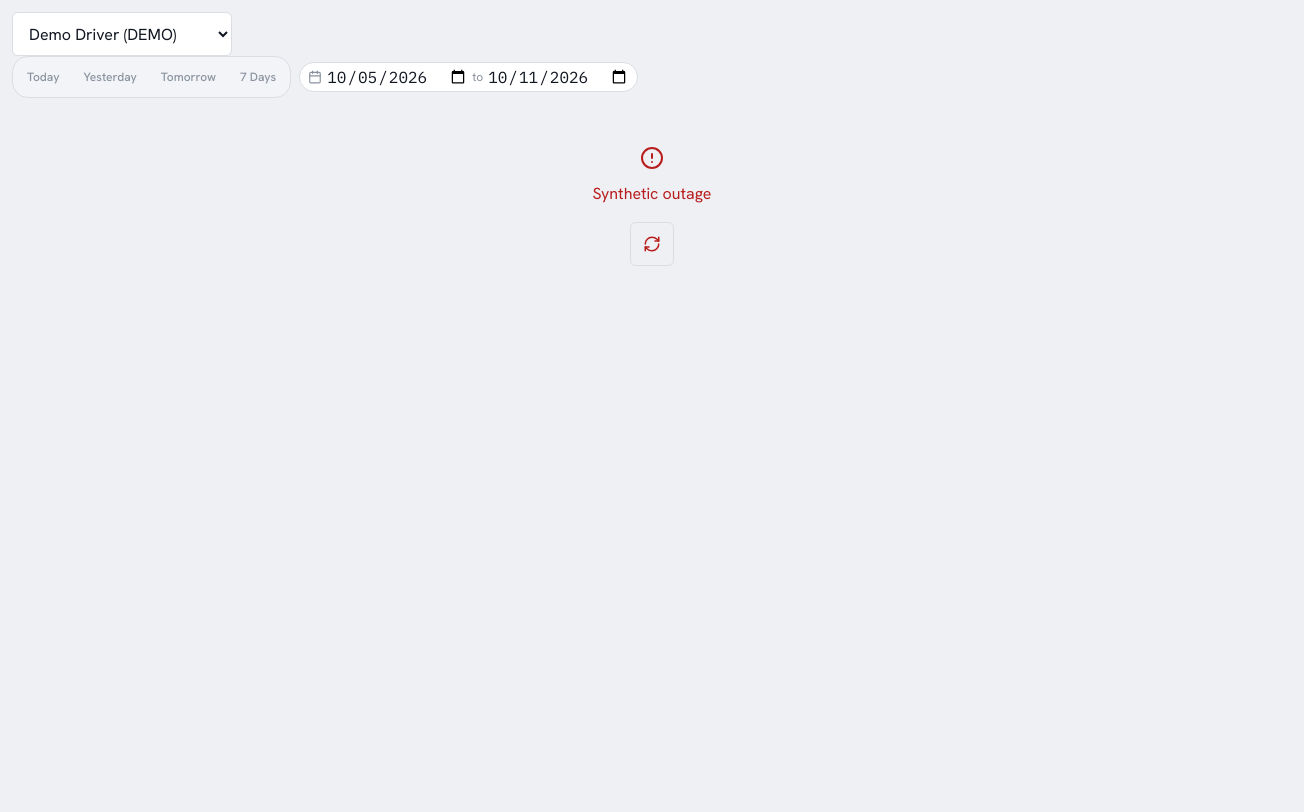
Test: Driver report URL and request lifecycle › can switch to another driver when the current driver's report fails
Expected: the message "Synthetic outage" is shown, [592, 146, 711, 266]
Select "Next Driver (NEXT) (Inactive)" in the dropdown named "Select report driver" at (122, 34), box [12, 12, 232, 56]
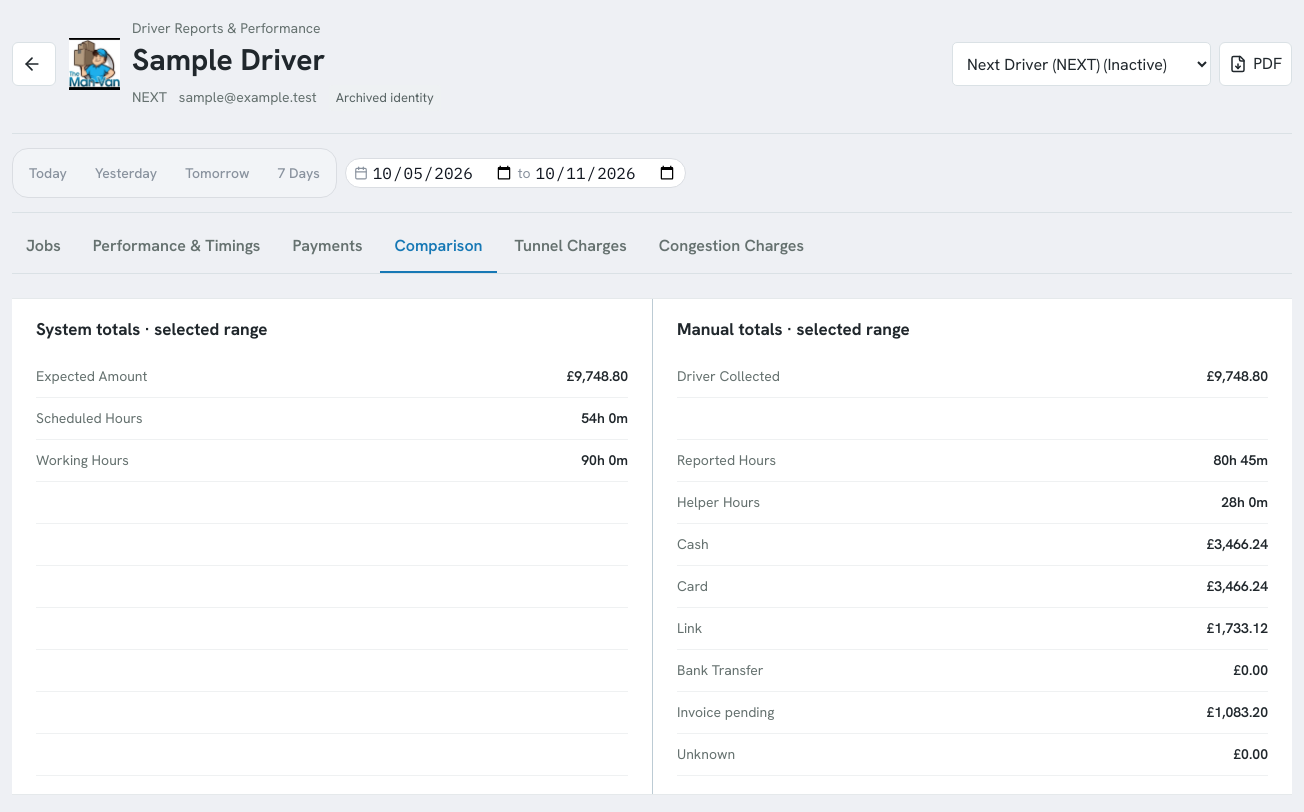
Expected: the dropdown named "Select report driver" shows "Next Driver (NEXT) (Inactive)", [952, 42, 1211, 86]
Expected: the message "Synthetic outage" is gone
